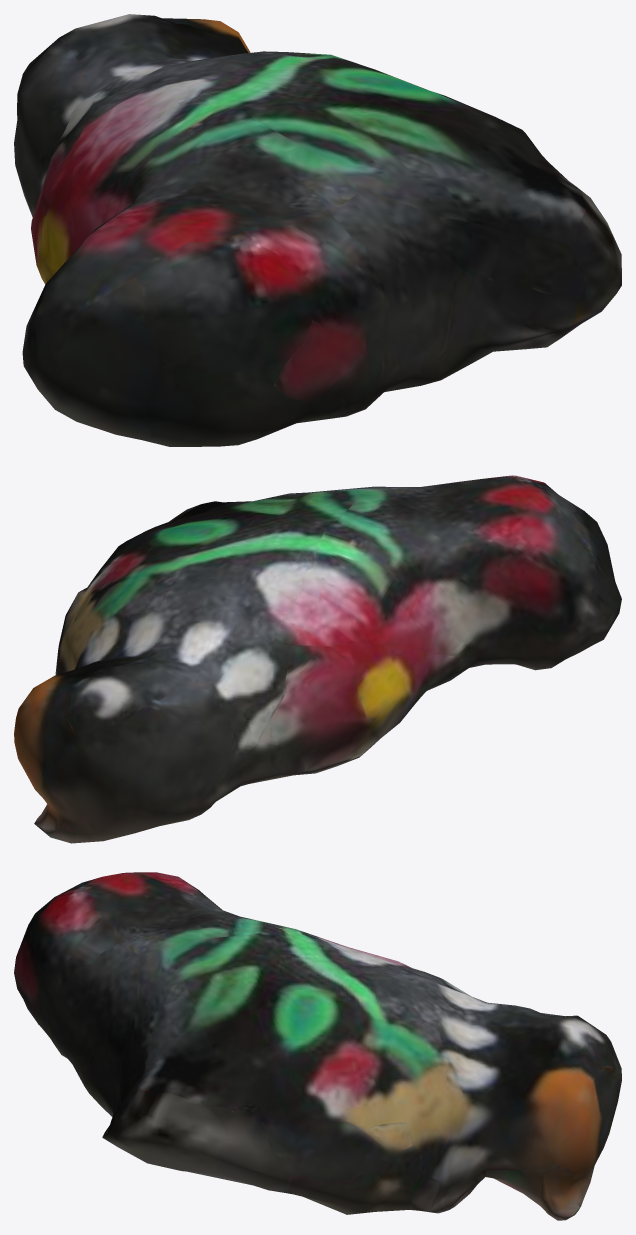
The model's file is hall.glb.
3 views of the same model, one above another, from view 1: azimuth 30°, elevation 25°; view 2: azimuth 150°, elevation 25°; view 3: azimuth 270°, elevation 25° (orthographic). The views are drawn at different scales.
Bounding box in the file's own units: 0.4463 × 0.2231 × 0.542.
Materials: 1 (1 with a texture image).
